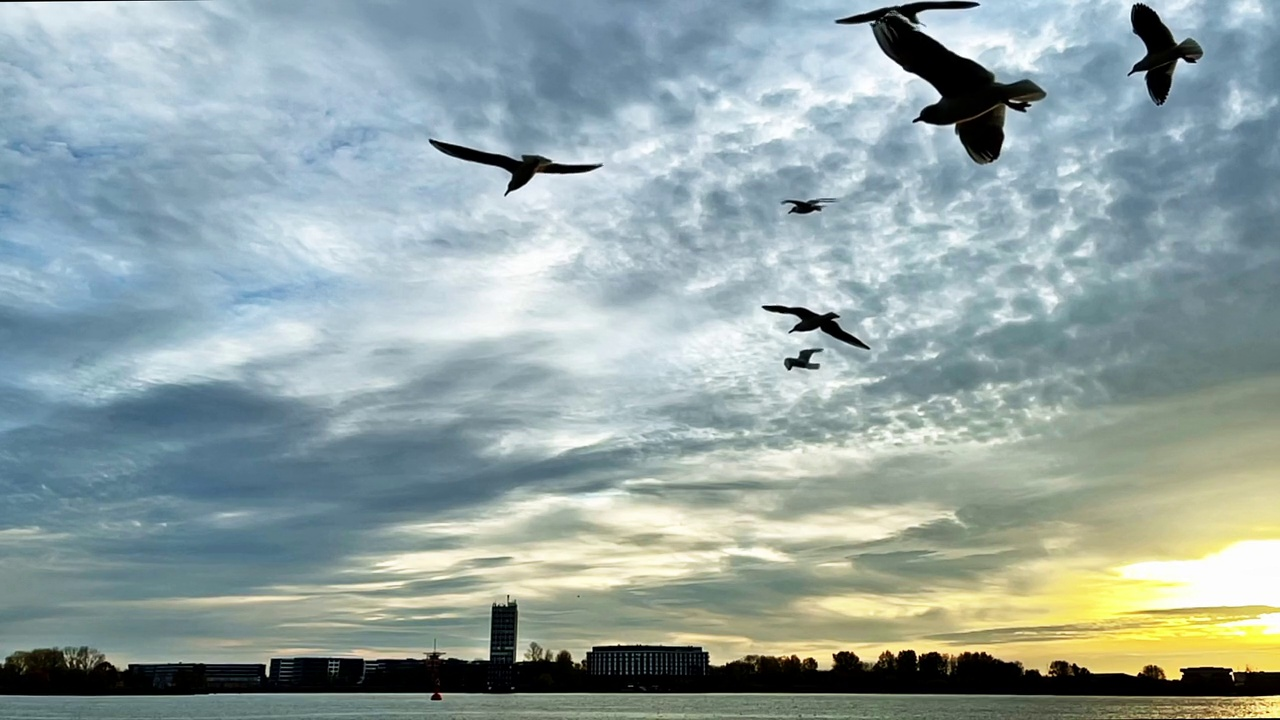bird: (868, 13, 1044, 164), (425, 137, 601, 197), (1127, 3, 1202, 106), (760, 303, 869, 351), (838, 1, 982, 23), (779, 197, 834, 216), (783, 349, 823, 370)
